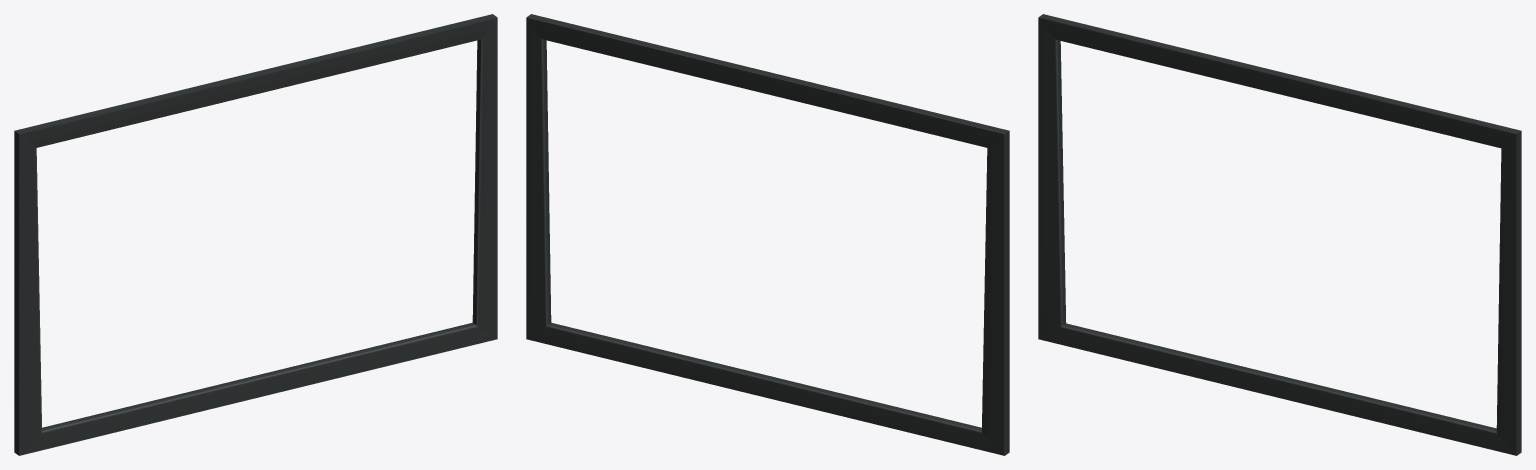
File: PropWindow02TypeJ_1.FBX
The picture shows the model from 3 angles, left to right: view 1: azimuth 30°, elevation 25°; view 2: azimuth 150°, elevation 25°; view 3: azimuth 330°, elevation 25°; orthographic projection.
Parts seen in each view (by area): view 1: PropWindow02TypeJ_1; view 2: PropWindow02TypeJ_1; view 3: PropWindow02TypeJ_1.
Part boxes in pixels (box(x1,y1,x2,y2)): PropWindow02TypeJ_1: box(14, 14, 497, 455); PropWindow02TypeJ_1: box(526, 14, 1009, 455); PropWindow02TypeJ_1: box(1038, 14, 1521, 455).
Size of what is drawn, in the model's own units: 3.5 by 2.25 by 0.06.
